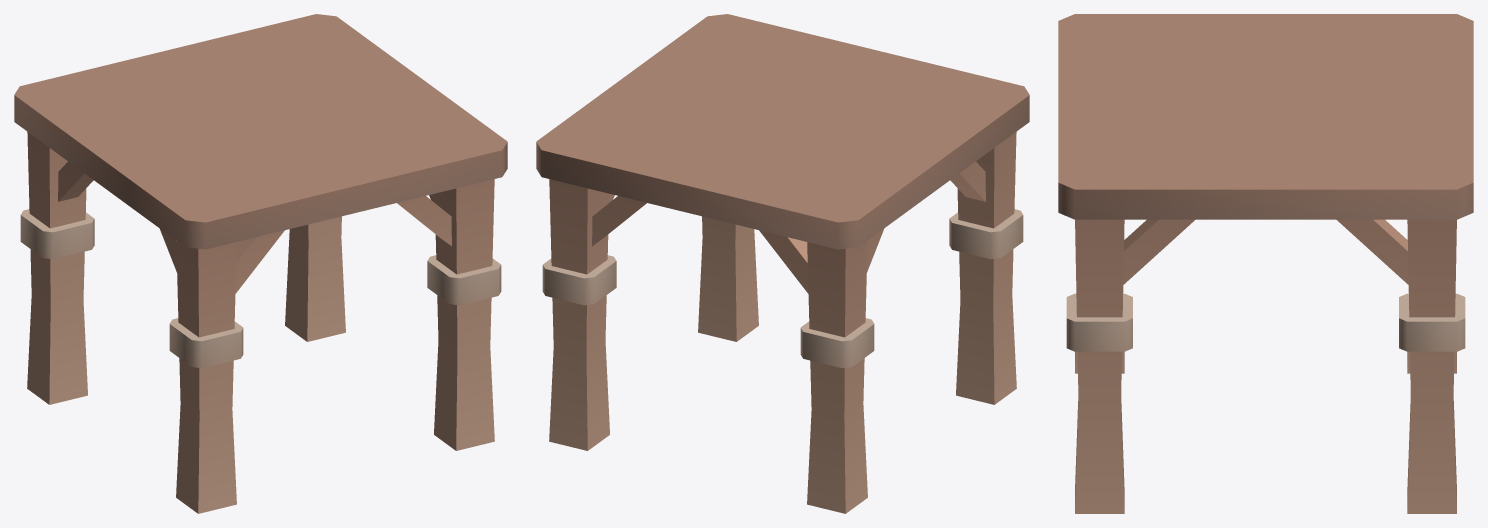
File: structure.glb
The picture shows the model from 3 angles, left to right: view 1: azimuth 30°, elevation 25°; view 2: azimuth 150°, elevation 25°; view 3: azimuth 270°, elevation 25°; orthographic projection. The views are drawn at different scales.
Parts seen in each view (by area): view 1: structure; view 2: structure; view 3: structure.
Boxes of the visible parts, x1,y1,x2,y2 form: structure: (14,14,507,513); structure: (536,14,1029,513); structure: (1058,14,1473,513).
Bounding box in the file's own units: 2.5 × 2.2 × 2.5.
